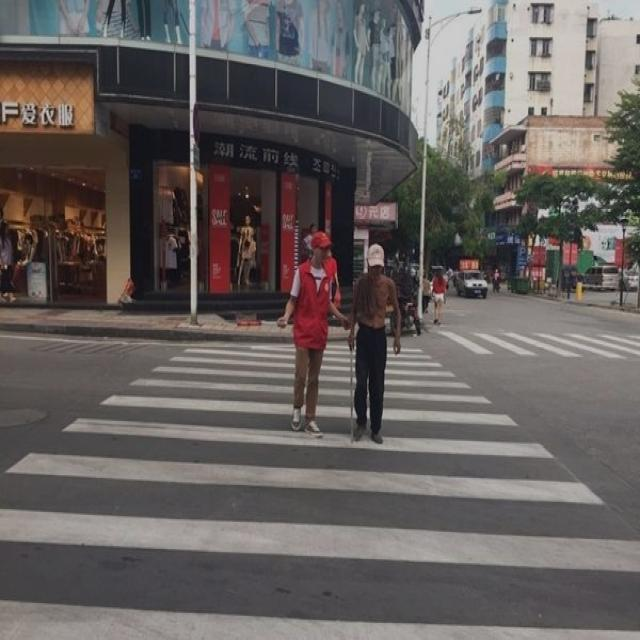non-fight: (275, 222, 348, 432), (345, 237, 402, 444)
